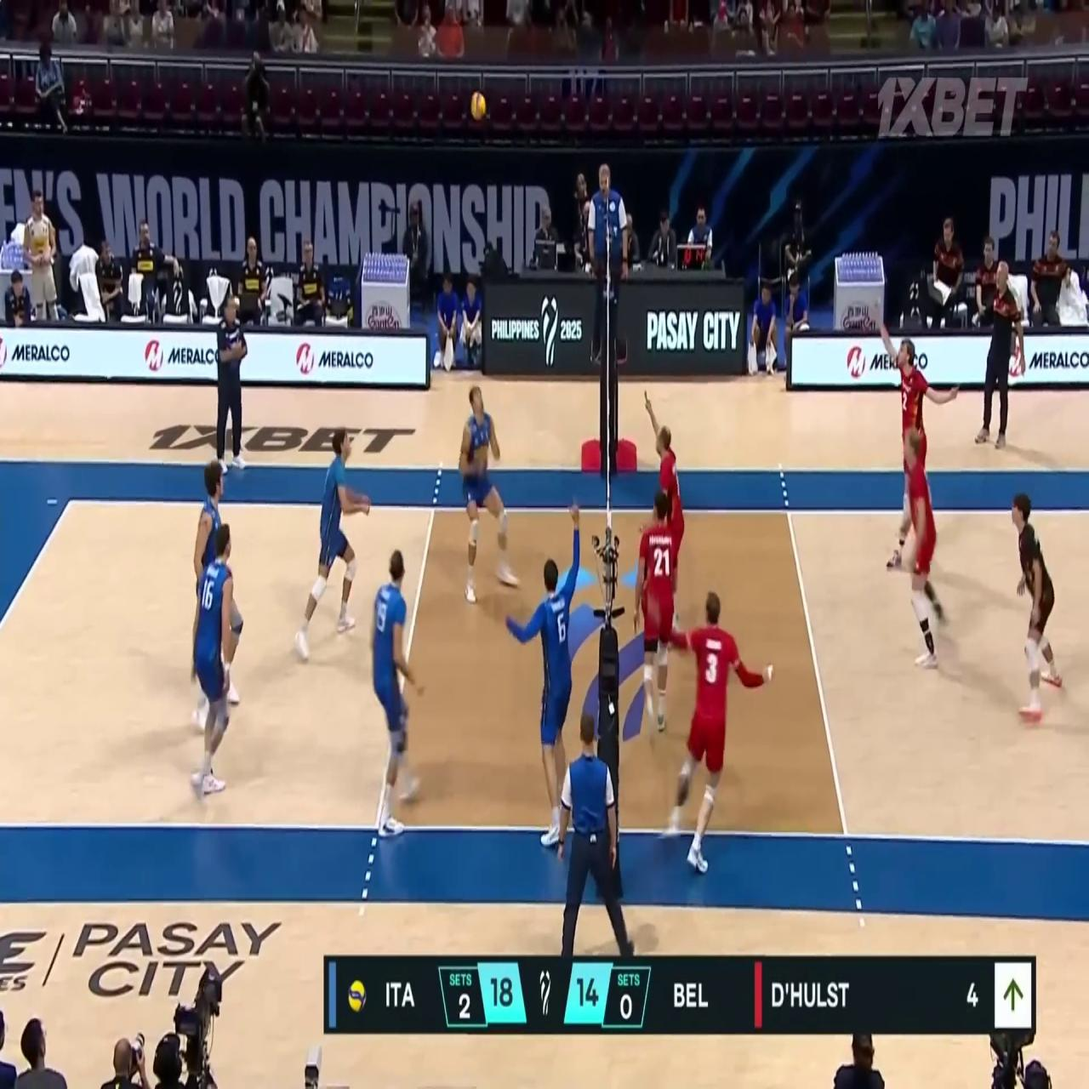ball: (471, 93, 487, 119)
